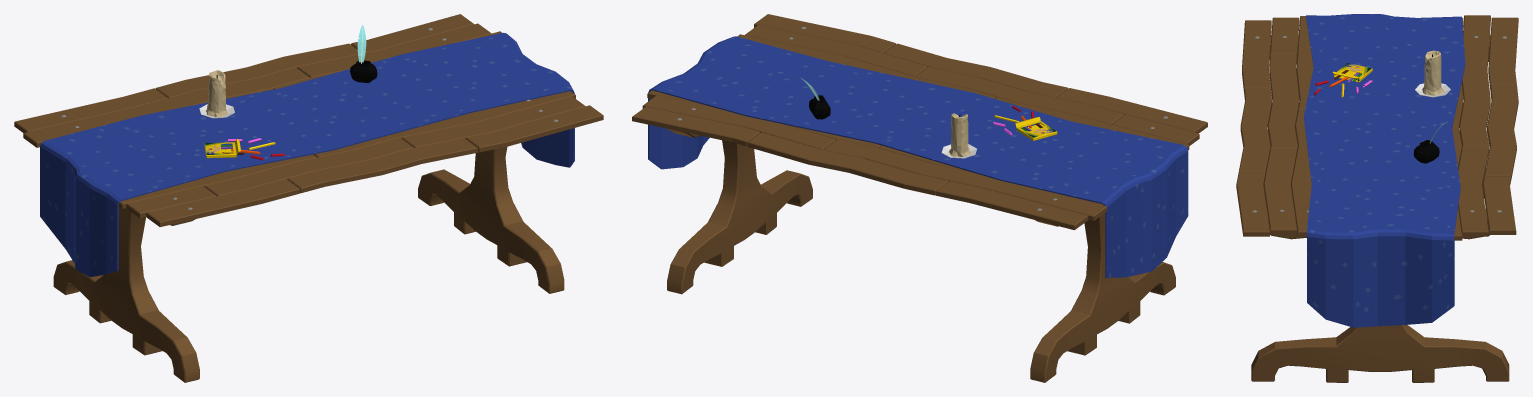
The model's file is SM_JaffasDesk.v2.fbx.
3 renders of one model, left to right at view 1: azimuth 30°, elevation 25°; view 2: azimuth 150°, elevation 25°; view 3: azimuth 270°, elevation 25°, orthographic. The views are drawn at different scales.
Parts seen in each view (by area): view 1: Table_Cloth, Table_Top, Table_Legs, Candle, Jaffa Crayons, InkPot; view 2: Table_Cloth, Table_Top, Table_Legs, Candle, Jaffa Crayons; view 3: Table_Cloth, Table_Top, Table_Legs, Candle, Jaffa Crayons, InkPot.
Boxes of the visible parts, bbox=[...] form: Table_Cloth: bbox=[40, 32, 574, 277]; Table_Top: bbox=[14, 14, 603, 226]; Table_Legs: bbox=[53, 147, 564, 382]; Candle: bbox=[199, 70, 234, 118]; Jaffa Crayons: bbox=[204, 138, 284, 160]; InkPot: bbox=[350, 25, 377, 83]; Table_Cloth: bbox=[648, 36, 1188, 277]; Table_Top: bbox=[632, 14, 1207, 230]; Table_Legs: bbox=[666, 128, 1175, 382]; Candle: bbox=[941, 113, 976, 158]; Jaffa Crayons: bbox=[993, 106, 1057, 140]; Table_Cloth: bbox=[1304, 14, 1465, 327]; Table_Top: bbox=[1236, 15, 1518, 240]; Table_Legs: bbox=[1251, 35, 1509, 382]; Candle: bbox=[1415, 50, 1450, 97]; Jaffa Crayons: bbox=[1314, 63, 1372, 97]; InkPot: bbox=[1413, 121, 1447, 163].
Bounding box in the file's own units: 445 × 197 × 237.
